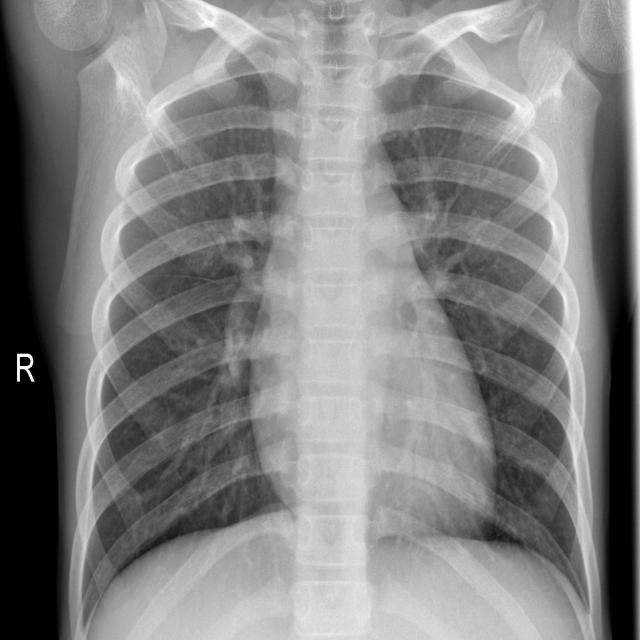no-pneumonia: (79, 53, 299, 635), (378, 55, 601, 623)
